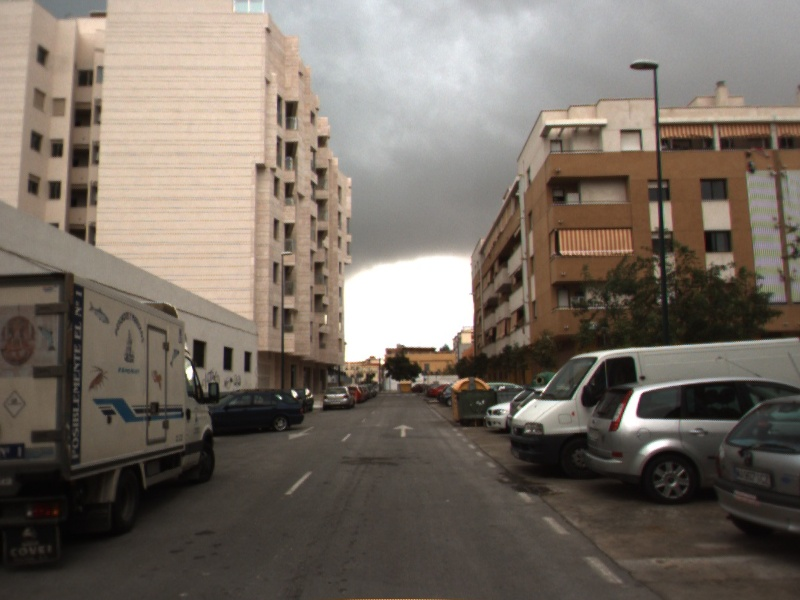STRAIGHT: (391, 422, 418, 439)
